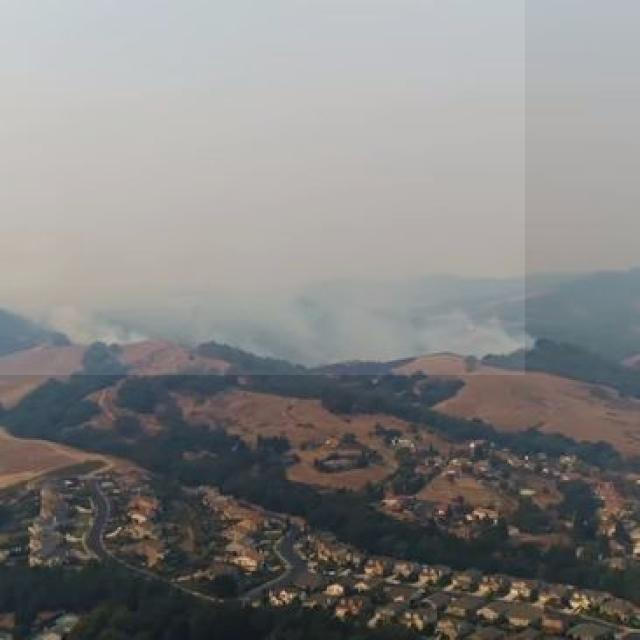Smoke: (0, 0, 525, 375)
